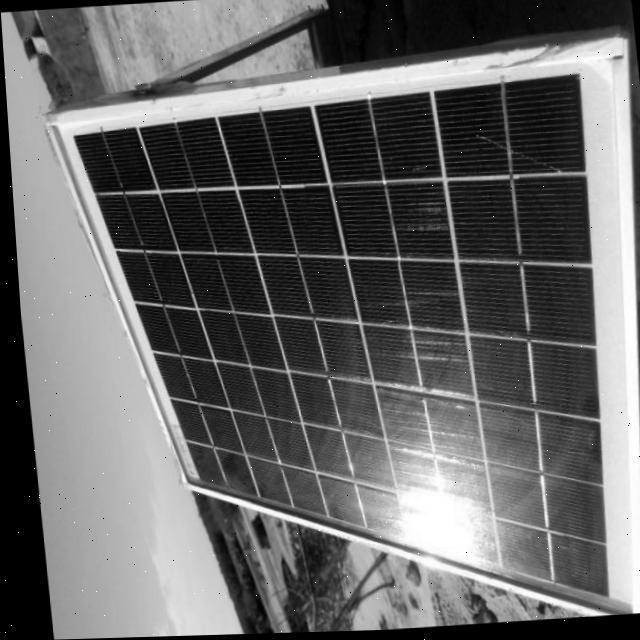Normal Solar Panel: (41, 32, 640, 639)
